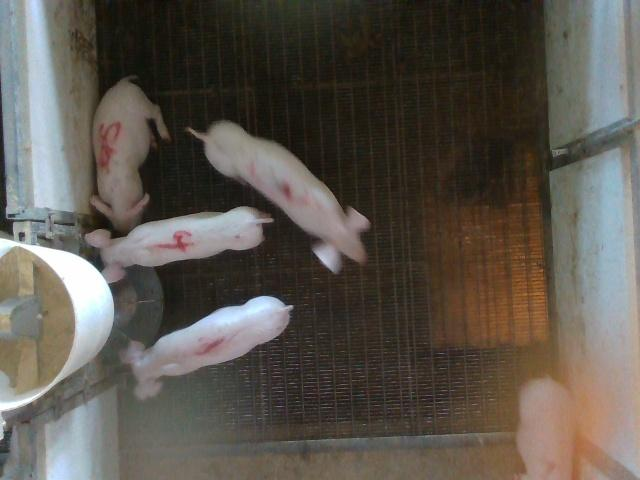pig-1: (121, 296, 292, 399)
pig-3: (188, 120, 370, 273)
pig-4: (85, 206, 272, 282)
pig-5: (91, 75, 170, 234)
